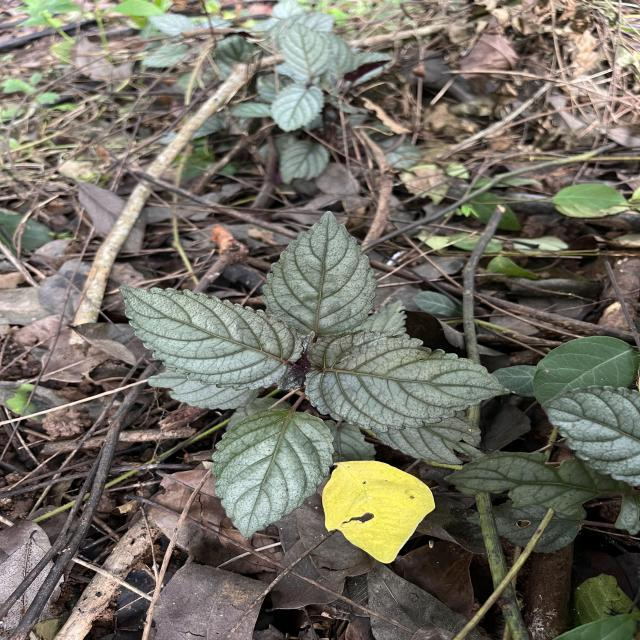Hemigraphis colorata: (302, 326, 514, 434), (117, 282, 305, 392), (210, 405, 336, 540), (259, 208, 379, 334), (539, 383, 640, 488)
